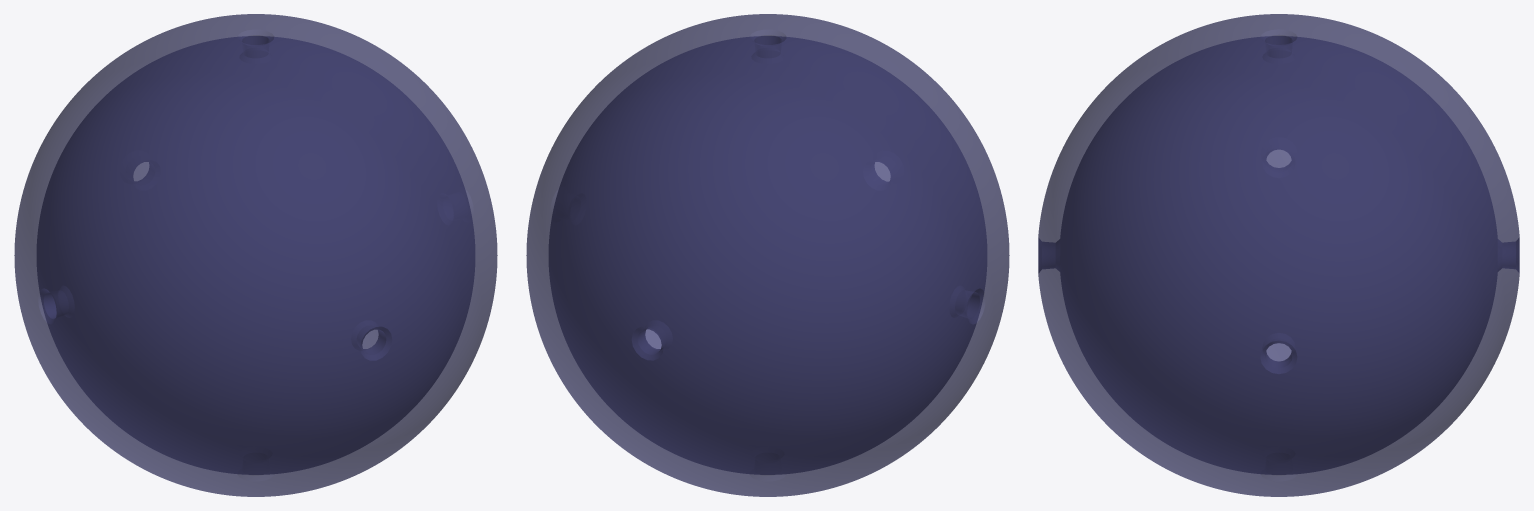
The picture shows the model from 3 angles, left to right: view 1: azimuth 30°, elevation 25°; view 2: azimuth 150°, elevation 25°; view 3: azimuth 270°, elevation 25°; orthographic projection.
Parts seen in each view (by area): view 1: pCube2; view 2: pCube2; view 3: pCube2.
Part boxes in pixels (x1,y1,x2,y2): pCube2: (14,14,497,496); pCube2: (526,14,1009,496); pCube2: (1038,14,1519,496).
Size of the model in its own units: 1.09 by 1.09 by 1.09.
